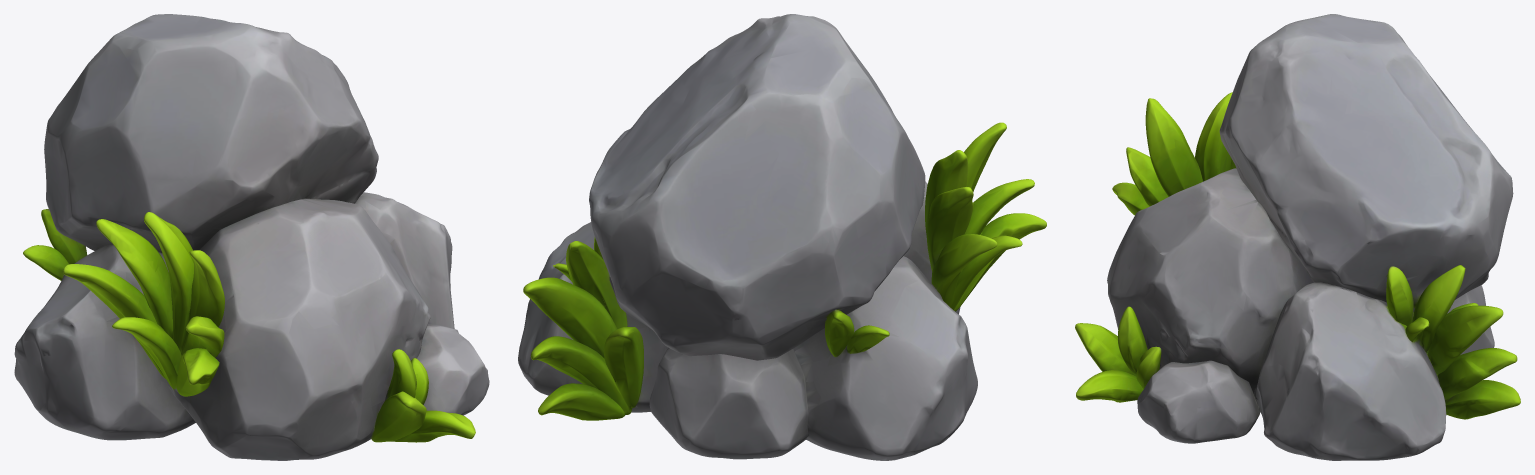
Rendered from rock_boulders.glb.
The picture shows the model from 3 angles, left to right: view 1: azimuth 30°, elevation 25°; view 2: azimuth 150°, elevation 25°; view 3: azimuth 270°, elevation 25°; orthographic projection. The views are drawn at different scales.
Visible parts, largest first — view 1: tripo_node_1c38d9d4-8838-4281-96e6-ea5506918835; view 2: tripo_node_1c38d9d4-8838-4281-96e6-ea5506918835; view 3: tripo_node_1c38d9d4-8838-4281-96e6-ea5506918835.
Boxes of the visible parts, x1=… form: tripo_node_1c38d9d4-8838-4281-96e6-ea5506918835: x1=14, y1=14, x2=489, y2=460; tripo_node_1c38d9d4-8838-4281-96e6-ea5506918835: x1=518, y1=14, x2=1046, y2=460; tripo_node_1c38d9d4-8838-4281-96e6-ea5506918835: x1=1075, y1=14, x2=1520, y2=460.
Bounding box in the file's own units: 0.9508 × 0.8001 × 0.9694.
1 material, 1 textured.
